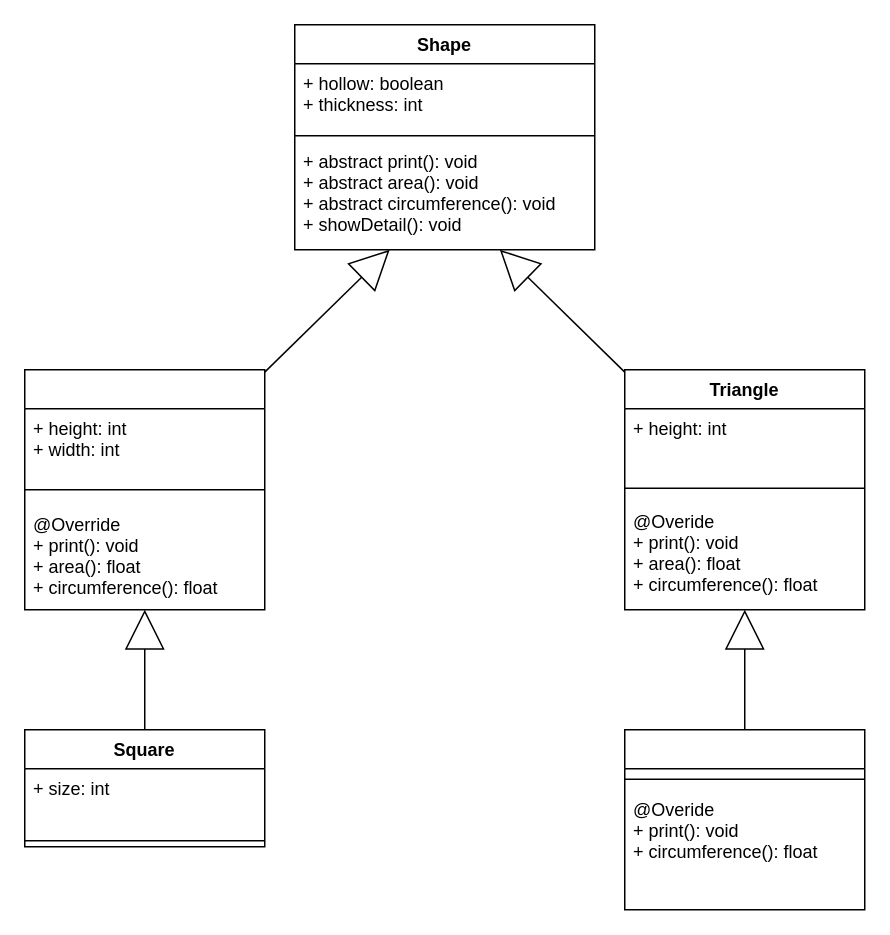
Image size: 890x935. Some labels were removed from this diagram. The shapes that lost their labels are listed below. From the top down, each one's box as (x1, y1, x2, y2) in pixels, then its label:
(23, 368, 265, 610): Rectangle
(623, 728, 865, 910): Diamond
